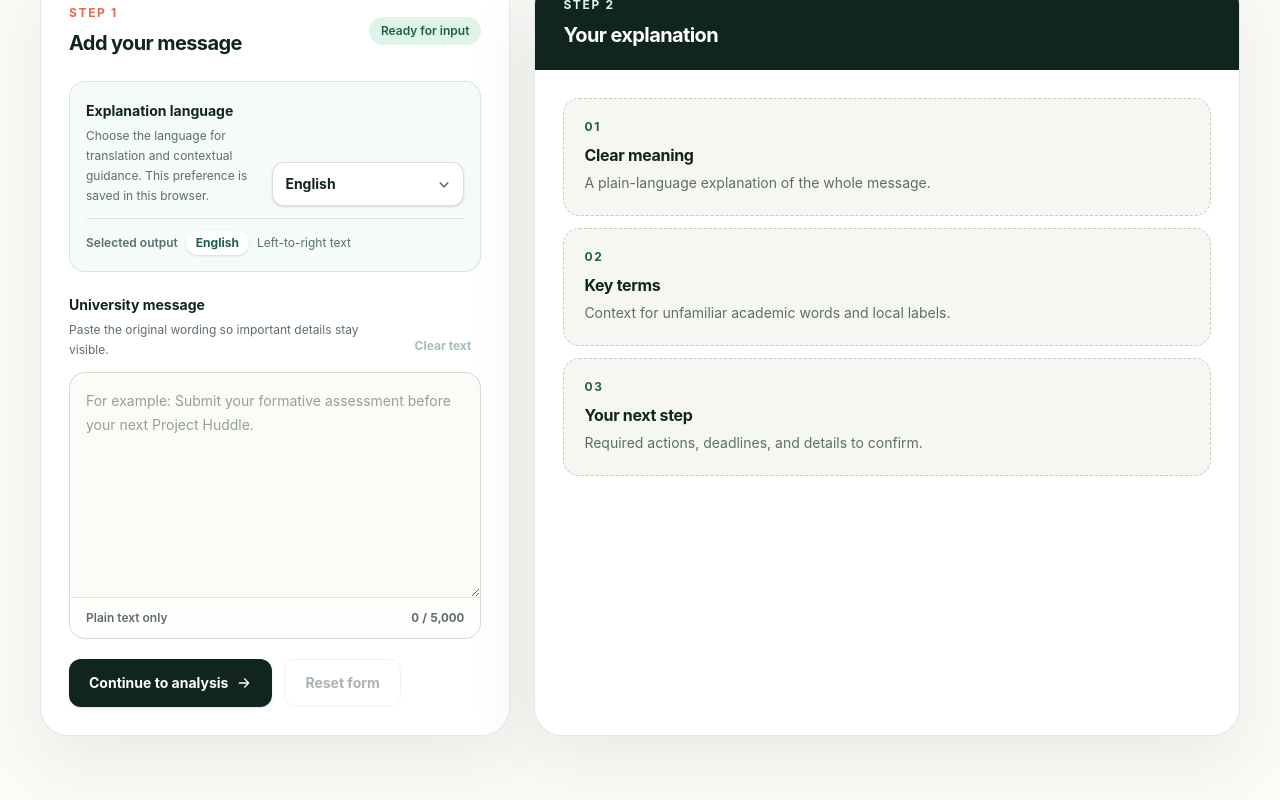
it: initial analysis workflow › shows a recoverable server error and preserves the submitted form
The image size is (1280, 800).
(page scrolled)
Type "Submit your formative assessment before your next Project Huddle." into the text box labelled "University message". click: {"x": 275, "y": 485}
box: x1=70 y1=373 x2=480 y2=597
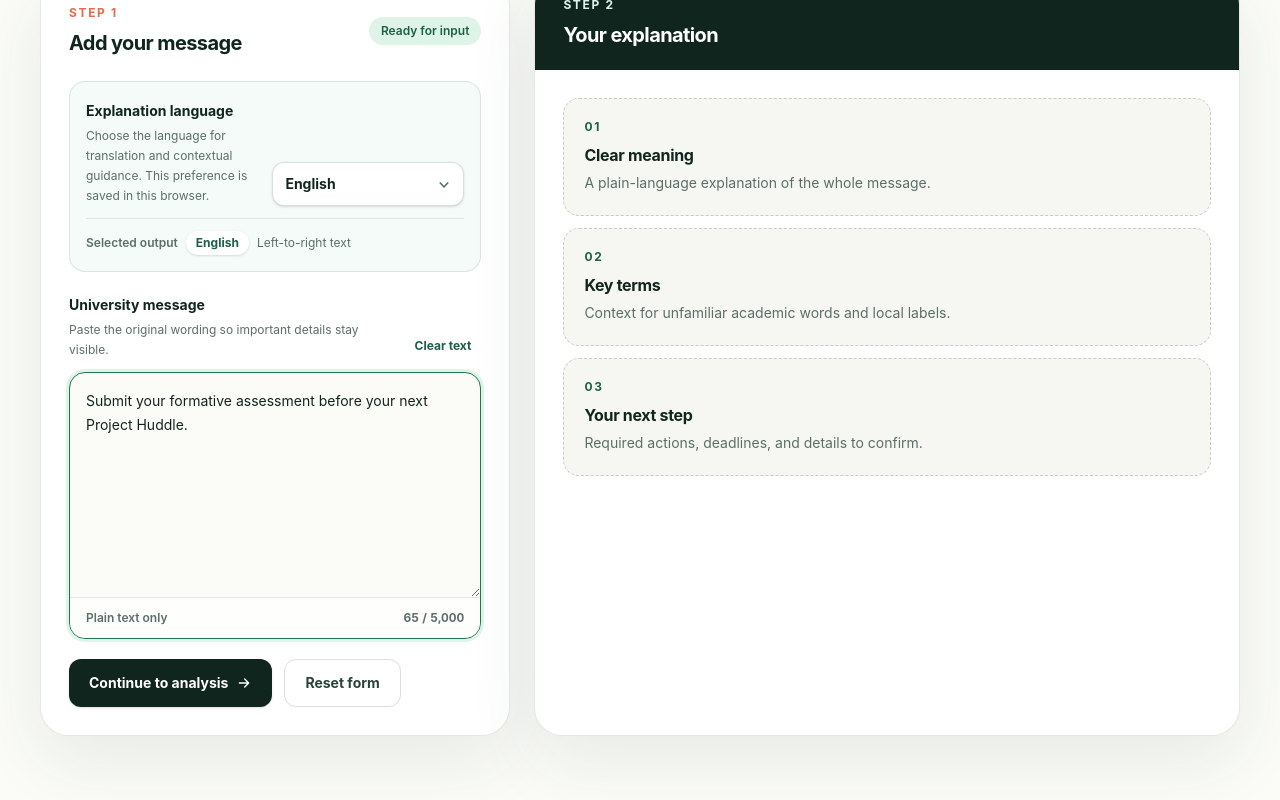
Click the button "Continue to analysis". click: {"x": 171, "y": 683}
box: x1=69 y1=659 x2=272 y2=707
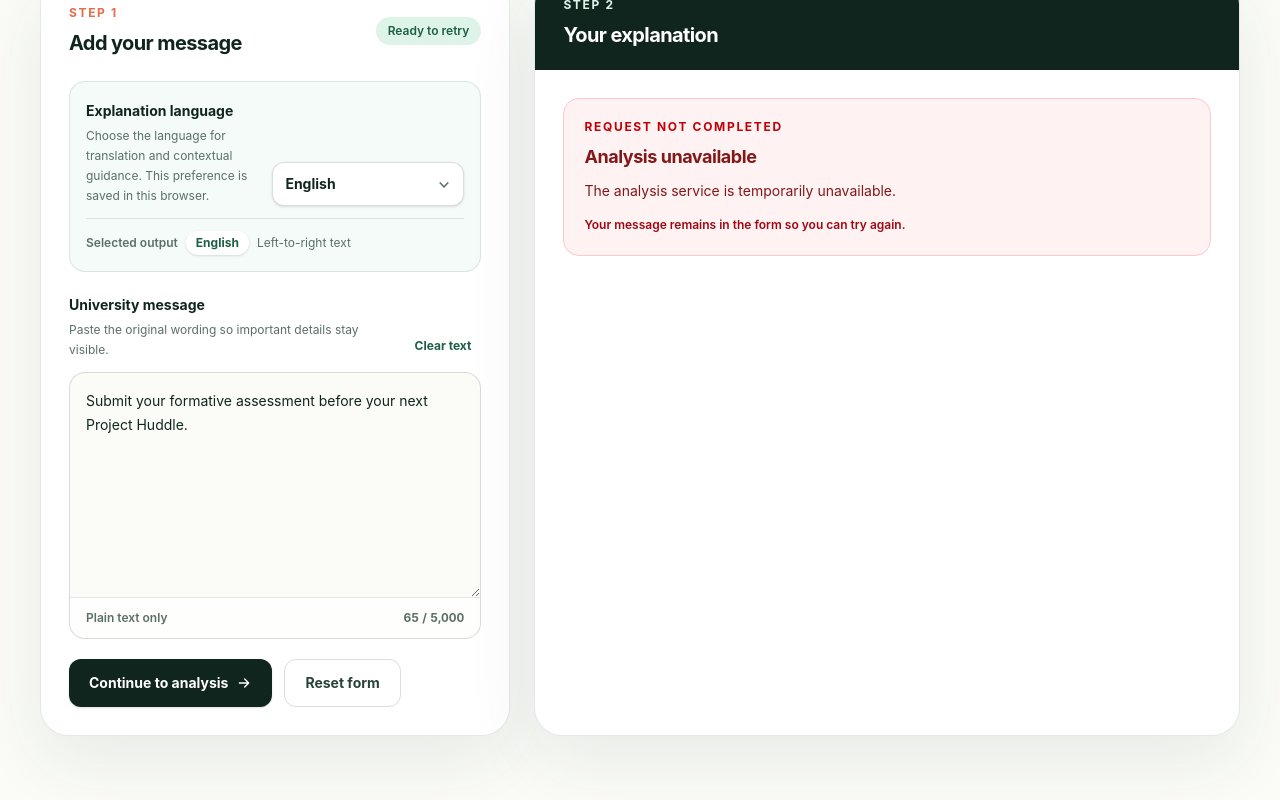
Now the message shows "The analysis service is temporarily unavailable.", box x1=584 y1=182 x2=896 y2=199
Now the text "Ready to retry" is shown, box x1=376 y1=17 x2=481 y2=45
